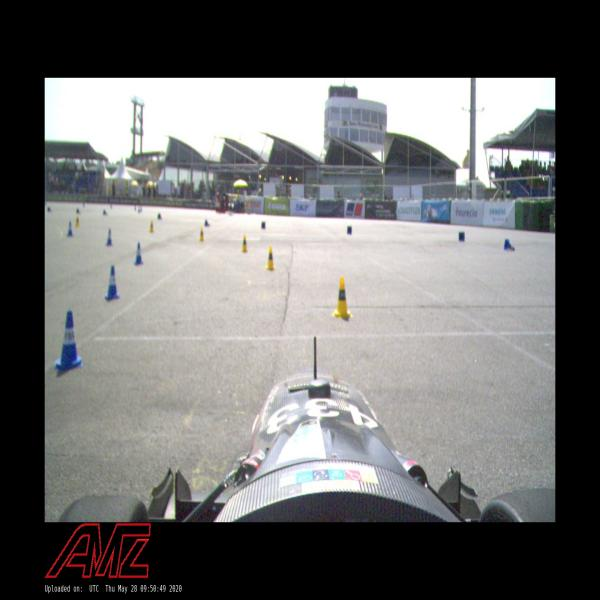blue_cone: (54, 310, 83, 371), (104, 264, 120, 302), (132, 241, 144, 266), (504, 238, 516, 252), (105, 227, 113, 247), (66, 221, 73, 237), (204, 219, 210, 226), (157, 213, 163, 220), (102, 209, 108, 216), (76, 208, 82, 215), (47, 206, 53, 213)
yellow_cone: (333, 276, 353, 318), (265, 245, 276, 271), (241, 234, 249, 253), (198, 226, 205, 242), (74, 215, 80, 228), (149, 220, 154, 233)
